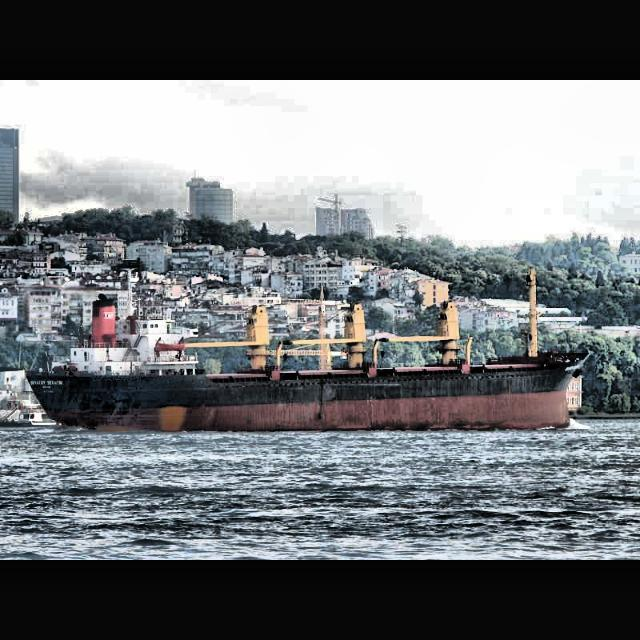bulk_carrier: (24, 262, 592, 434)
